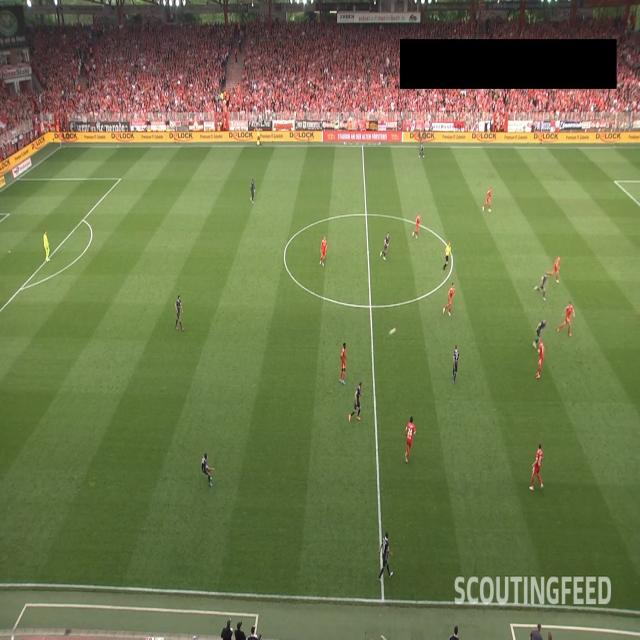ball: (388, 327, 396, 336)
